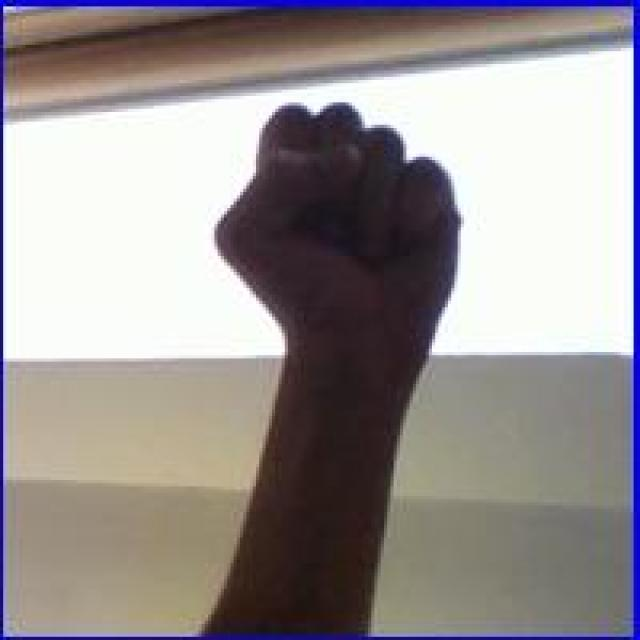S: (211, 98, 474, 360)
